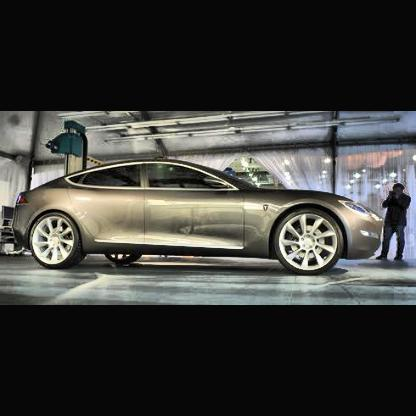Tesla Model S Sedan 2012: (13, 157, 385, 278)
